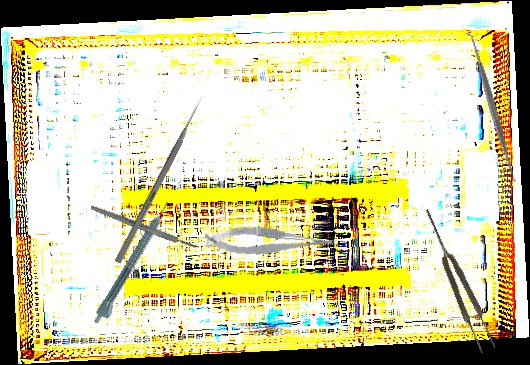Handpiece: (91, 199, 177, 329)
Micro Scissor: (203, 220, 338, 265)
Pusher: (114, 95, 206, 264)
Scalpel Handle: (89, 203, 198, 251)
Spatula Surgical: (461, 29, 523, 185)
Tissue Forceps: (418, 205, 498, 355)
